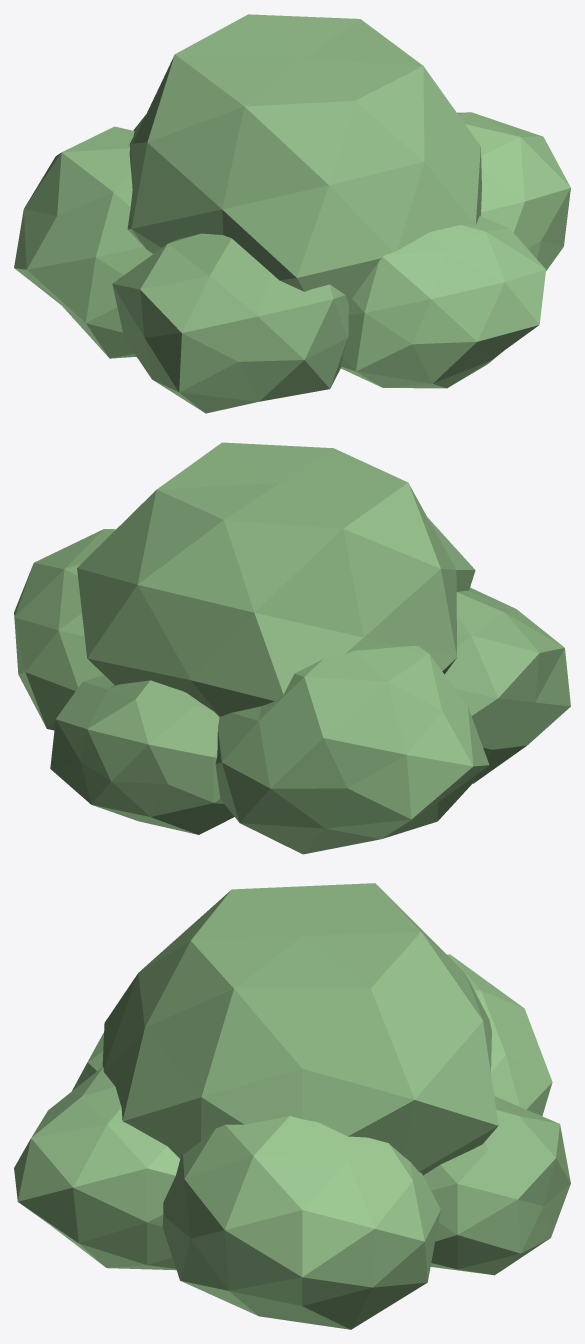
Rendered from medium_bush.glb.
3 renders of one model, top to bottom at view 1: azimuth 30°, elevation 25°; view 2: azimuth 150°, elevation 25°; view 3: azimuth 270°, elevation 25°, orthographic. The views are drawn at different scales.
Parts seen in each view (by area): view 1: part_0, part_4, part_5, part_3, part_1; view 2: part_0, part_3, part_2, part_4, part_1; view 3: part_0, part_1, part_5, part_2, part_3, part_4.
Boxes of the visible parts, x1,y1,x2,y2 form: part_0: (127,14,481,303); part_4: (112,233,348,413); part_5: (341,216,545,388); part_3: (14,126,152,358); part_1: (457,112,570,270); part_0: (77,442,475,716); part_3: (215,645,489,854); part_2: (50,675,234,834); part_4: (444,587,570,783); part_1: (14,529,115,730); part_0: (102,883,498,1175); part_1: (162,1116,440,1329); part_5: (14,1067,180,1270); part_2: (423,1096,570,1275); part_3: (447,954,552,1115); part_4: (72,1033,103,1090).
Bounding box in the file's own units: 3.19 × 1.79 × 2.9.
